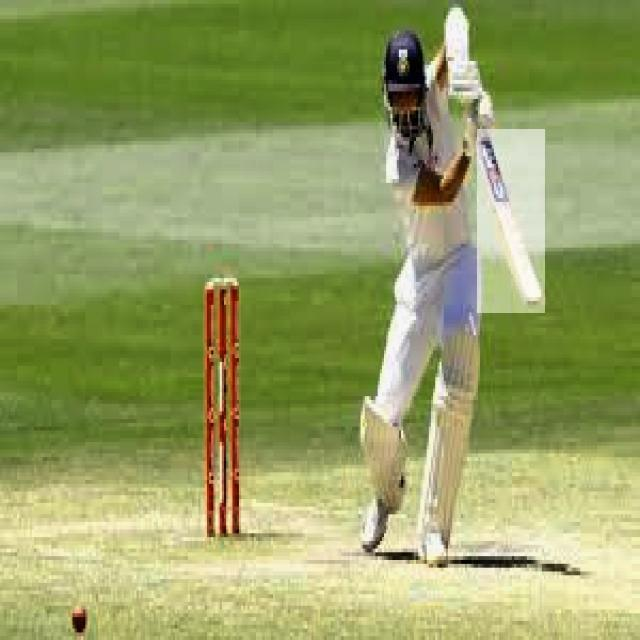bat: (477, 128, 549, 315)
toe: (520, 298, 549, 309)
